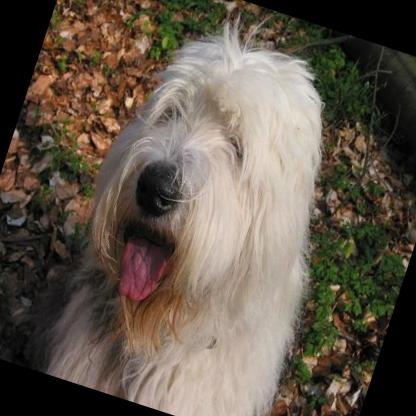Old_English_sheepdog: (27, 0, 385, 416)
